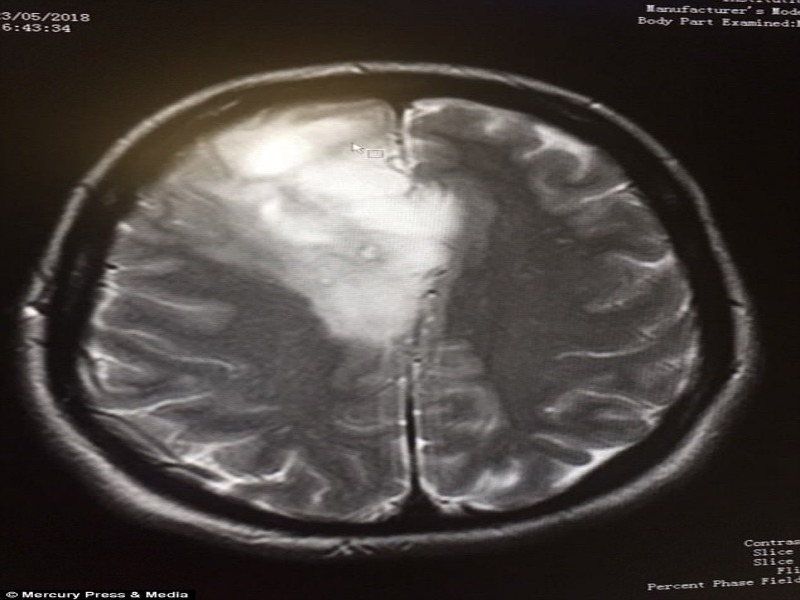tumor: (219, 101, 400, 197)
